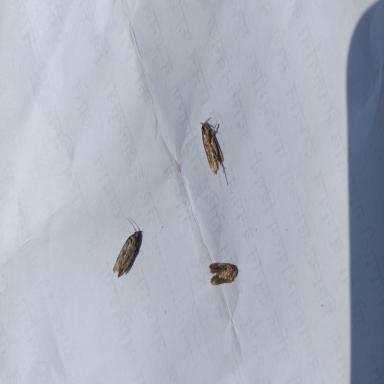pbw: (113, 218, 145, 278), (199, 116, 224, 188), (208, 262, 237, 286)
